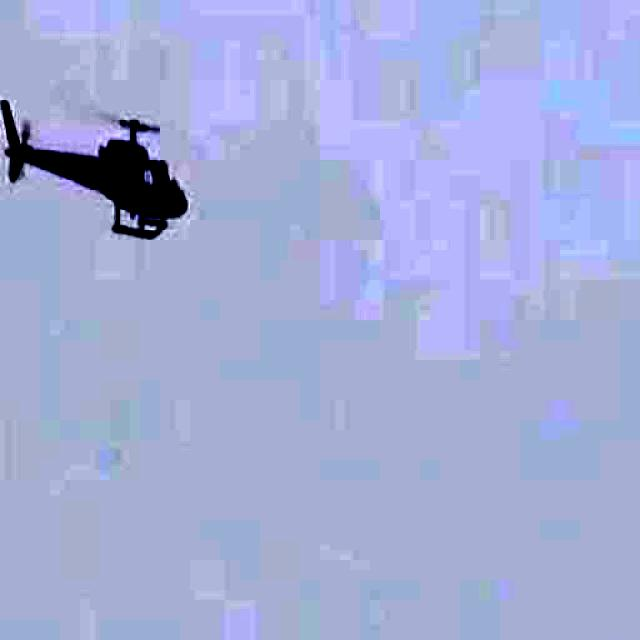drone: (0, 69, 195, 275)
